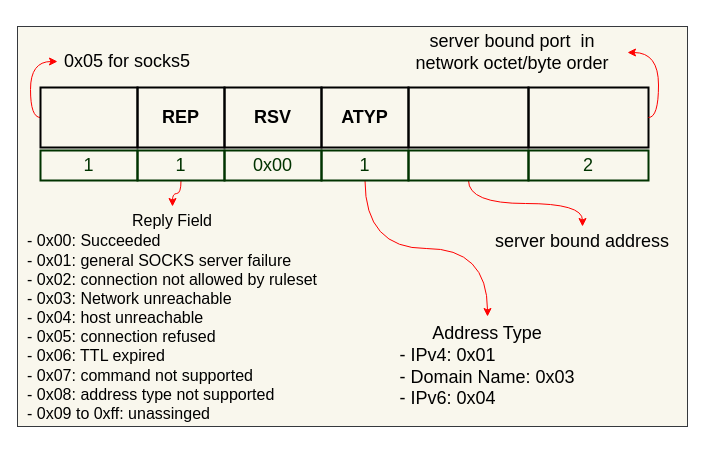
Image size: 705x452. Some labels were removed from this diagram. The box of each missing label's shape, as (x1, y1, x2, y2) in pixels:
BND. ADDR: (407, 86, 529, 148)
BND. PORT: (527, 86, 649, 148)
Variable: (407, 149, 529, 181)
VER: (39, 86, 138, 148)
